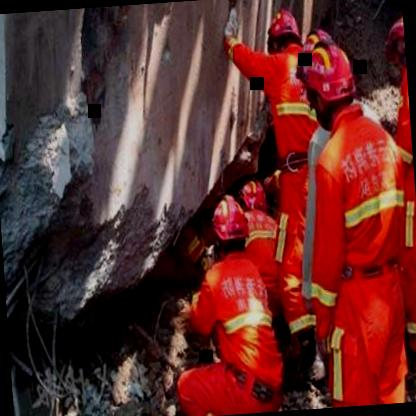helmet: (297, 35, 357, 131), (209, 194, 254, 256), (264, 11, 304, 64), (234, 176, 268, 222), (386, 14, 406, 72)
